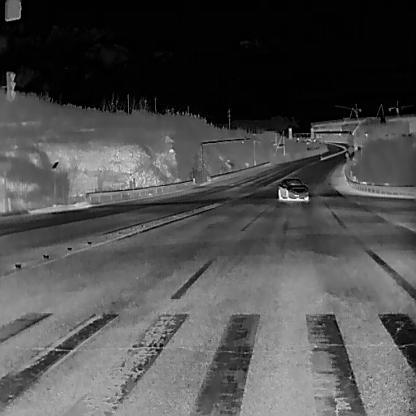car: (278, 177, 309, 201), (352, 142, 357, 150), (322, 138, 326, 143)
